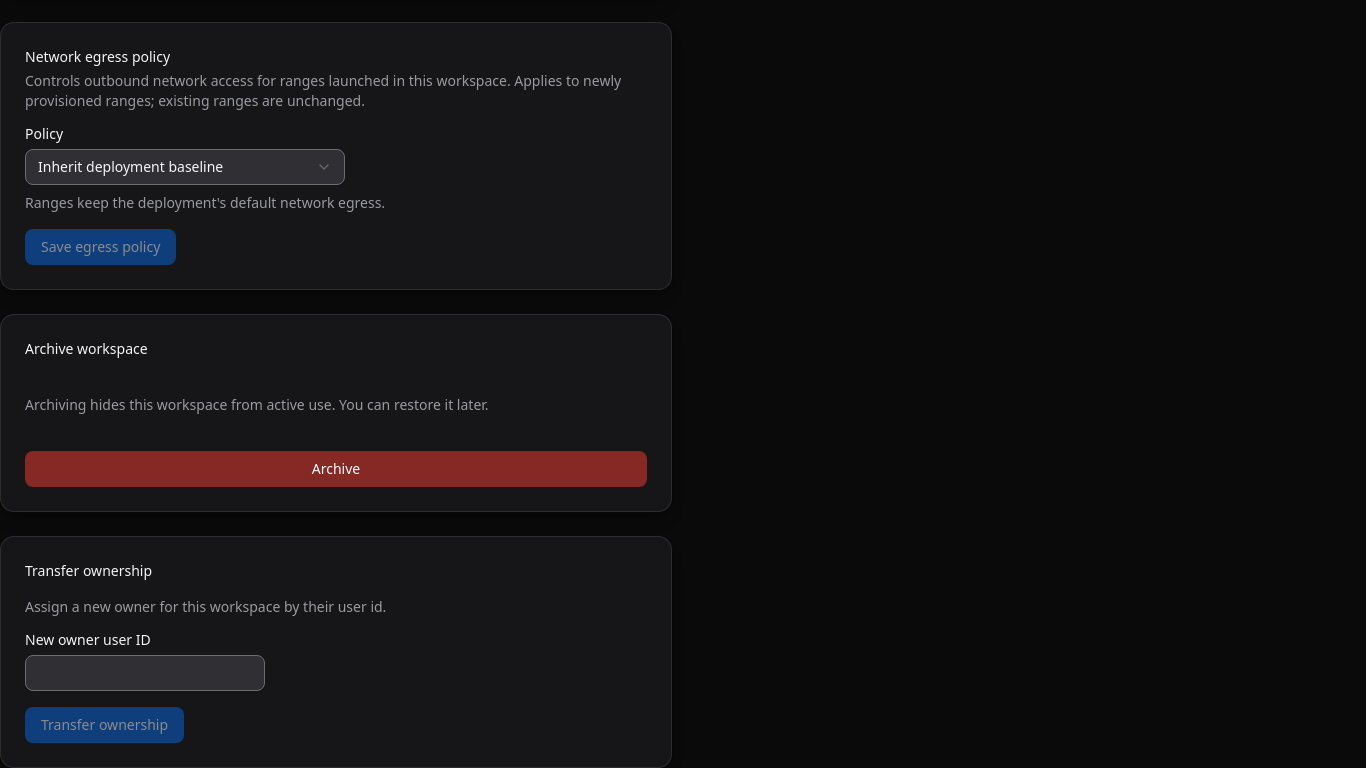
Test: WorkspaceDetailPage › archives the workspace after confirmation
(page scrolled)
Click the button "Archive" at (336, 469), box [25,451,647,487]
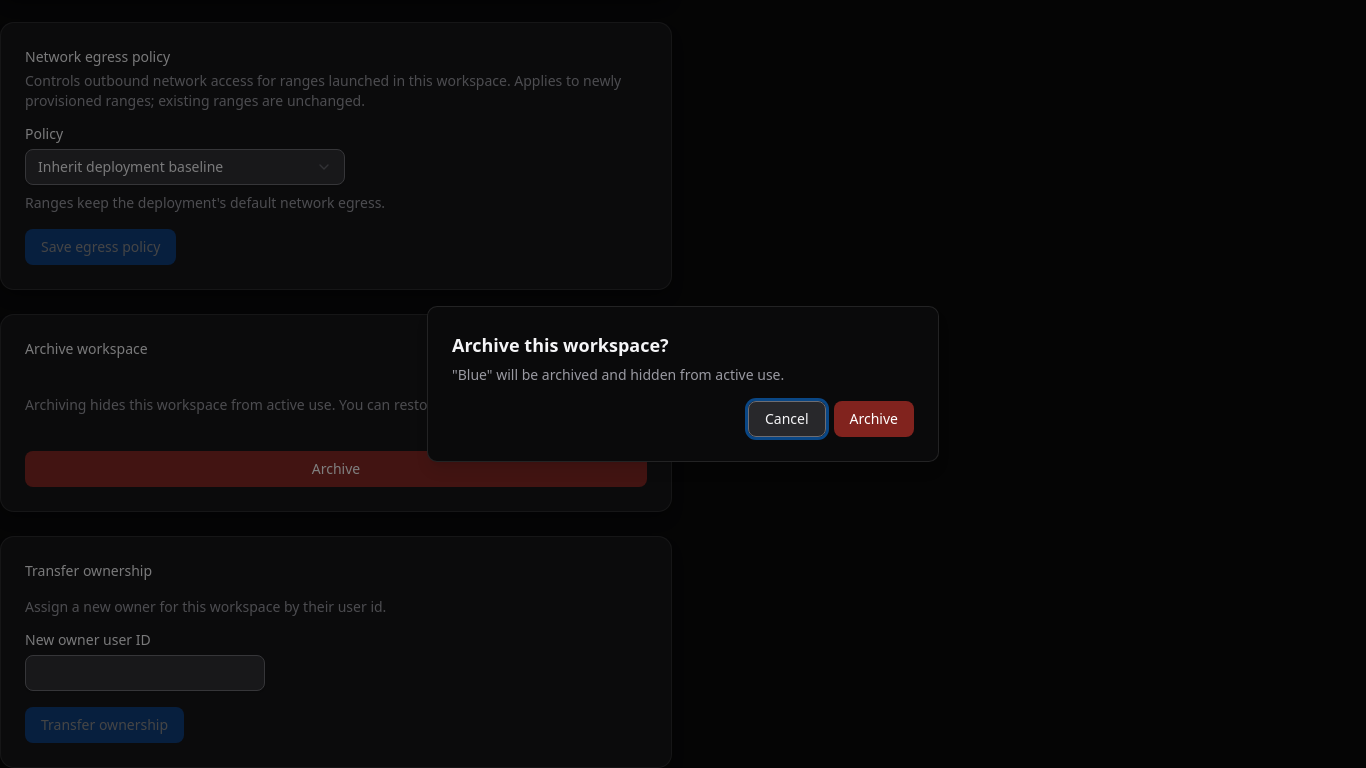
Click the button "Archive" at (874, 419), box [834,401,914,437]
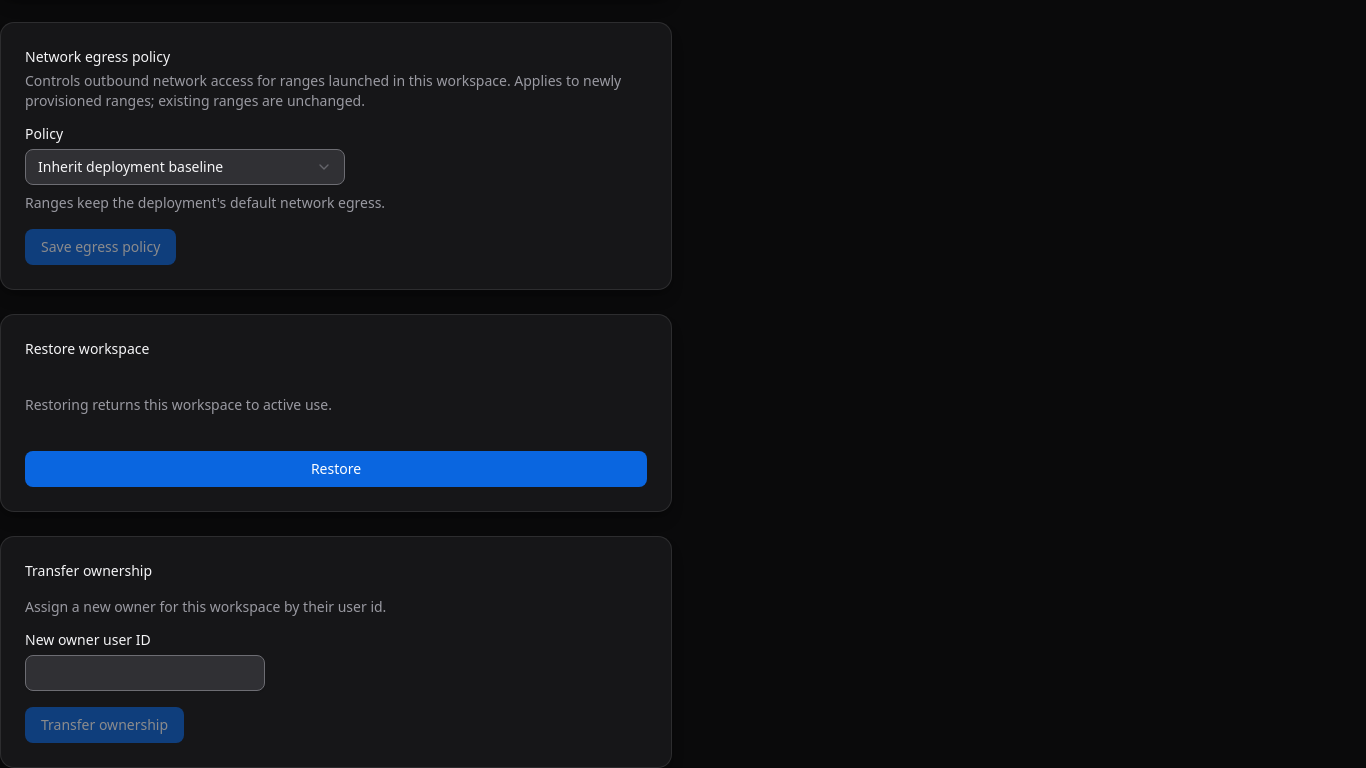
Expected: the dialog is gone
Expected: the button "Restore" is shown, [25,451,647,487]
